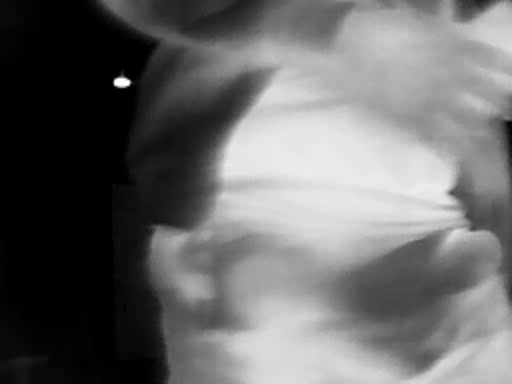chest: (191, 0, 460, 249)
